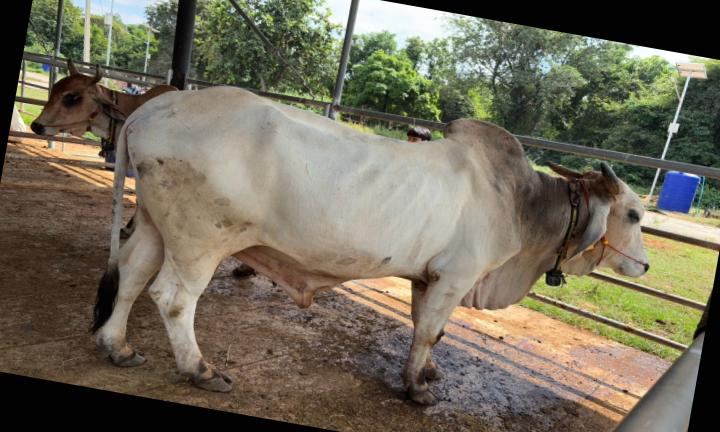Brahman: (91, 87, 648, 405)
